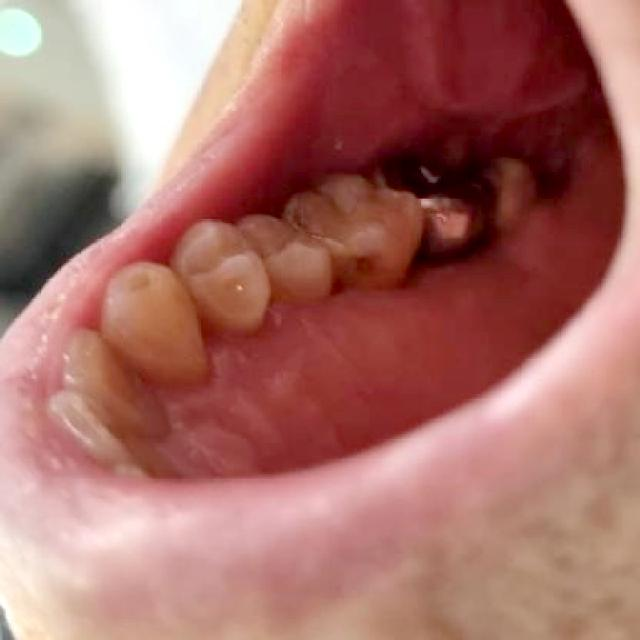Plaque: (346, 248, 395, 275)
